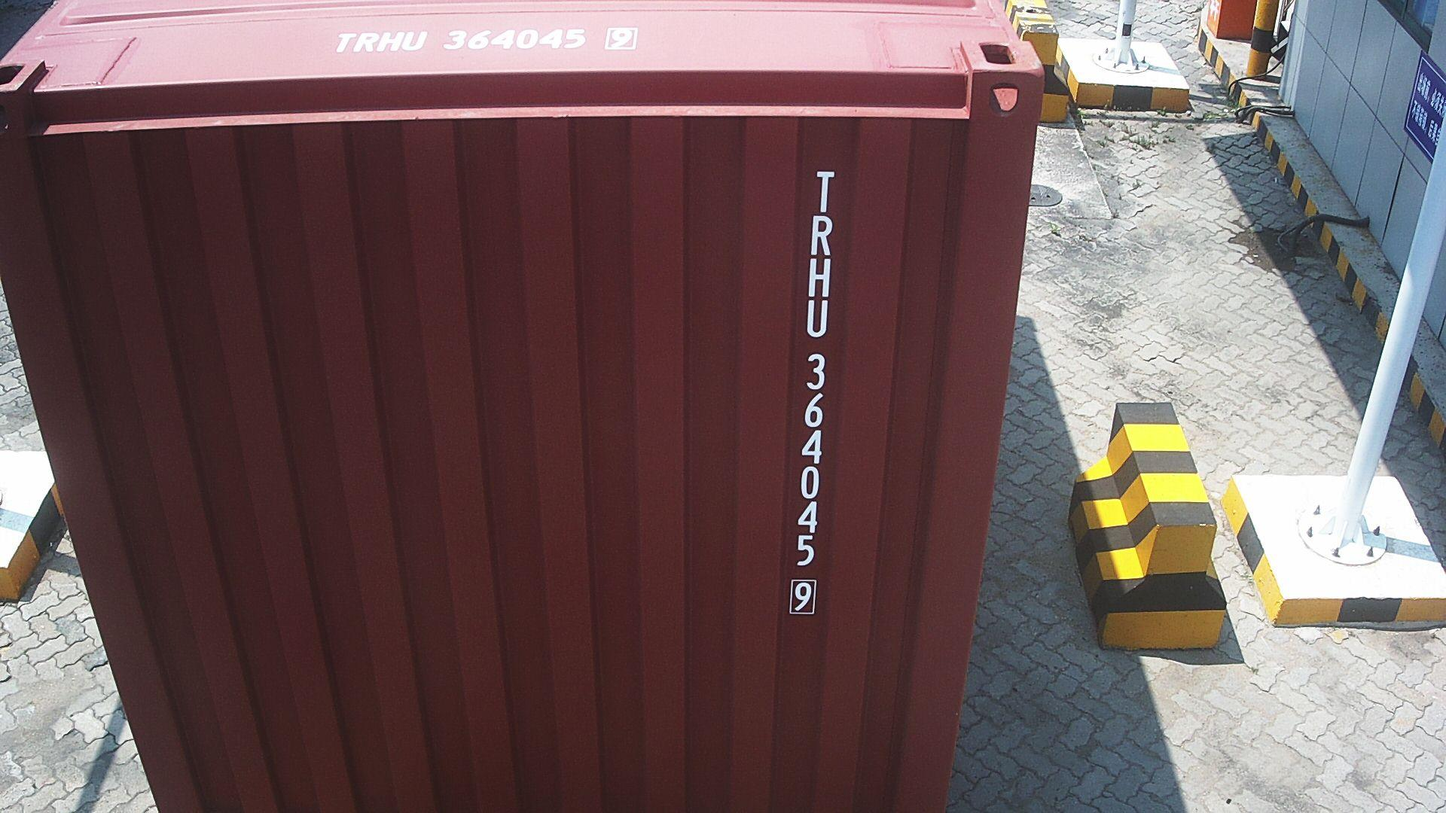container-numbers: (786, 166, 841, 619), (324, 25, 645, 56)
